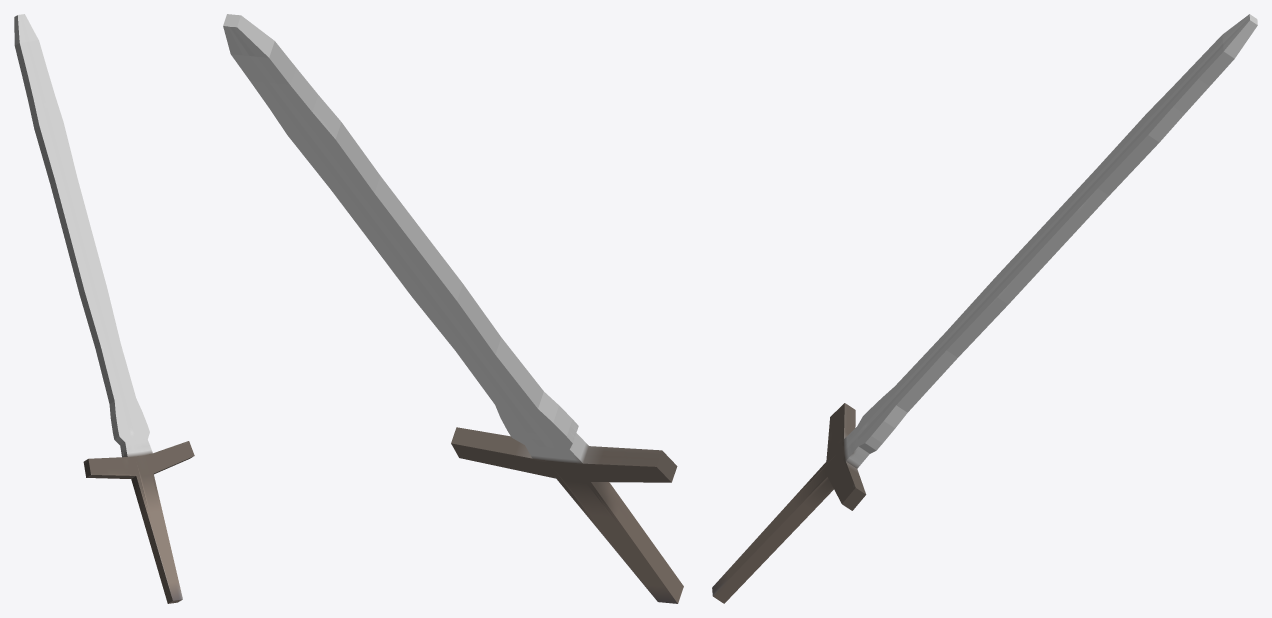
The model's file is sword_000097.obj.
The picture shows the model from 3 angles, left to right: view 1: azimuth 30°, elevation 25°; view 2: azimuth 150°, elevation 25°; view 3: azimuth 270°, elevation 25°; orthographic projection. The views are drawn at different scales.
Bounding box in the file's own units: 0.1421 × 0.55 × 0.4459.
